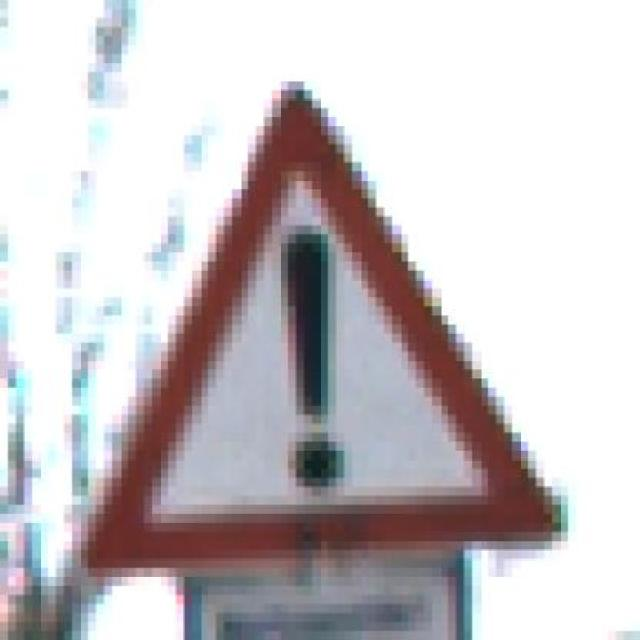Attention Please-: (46, 79, 599, 576)
